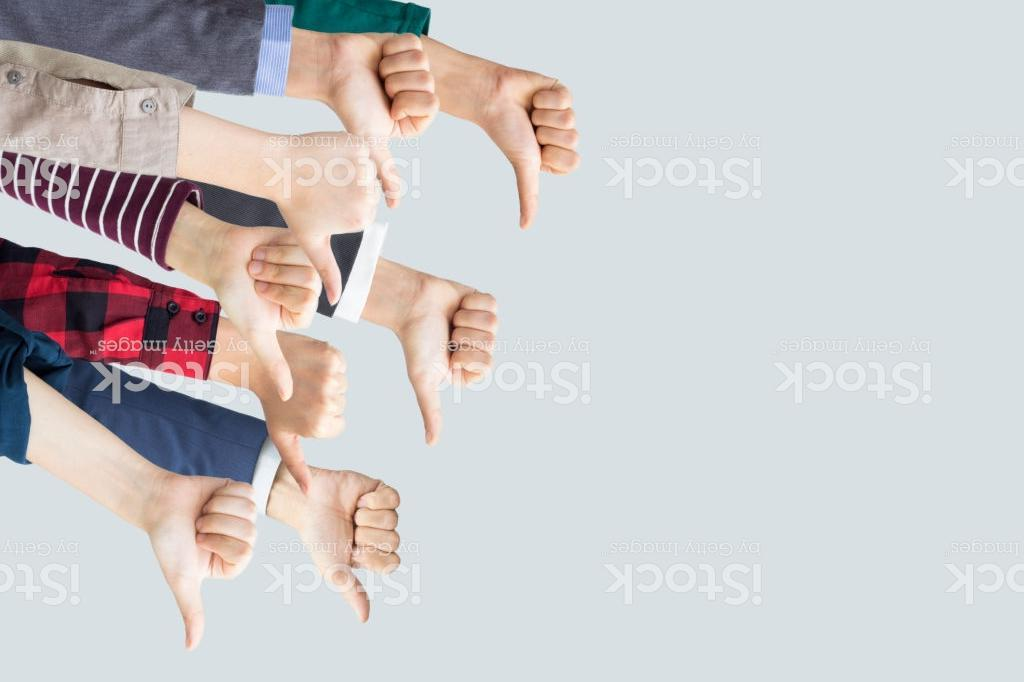thumbsdown: (345, 29, 442, 214), (161, 475, 261, 652), (403, 279, 503, 452), (232, 225, 323, 402), (295, 130, 381, 308), (493, 65, 581, 231), (321, 467, 404, 625), (278, 333, 348, 497)
